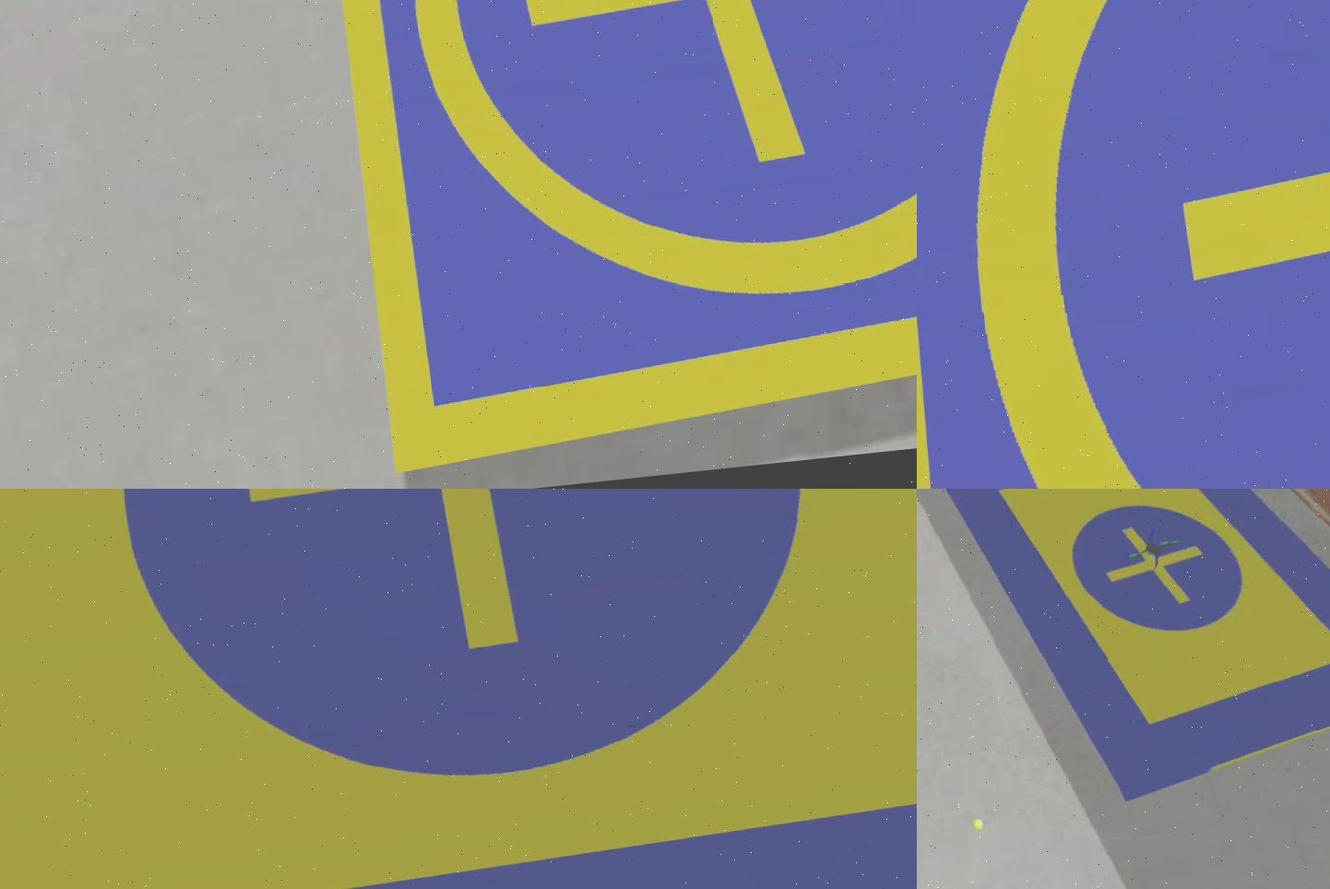large_base: (1, 490, 918, 889), (933, 490, 1330, 819)
small_base: (315, 1, 918, 473), (918, 1, 1330, 490)
